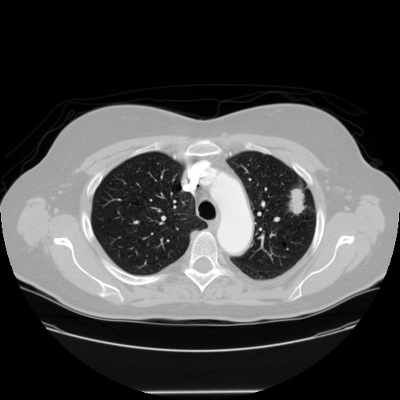nodule: (286, 191, 308, 213)
